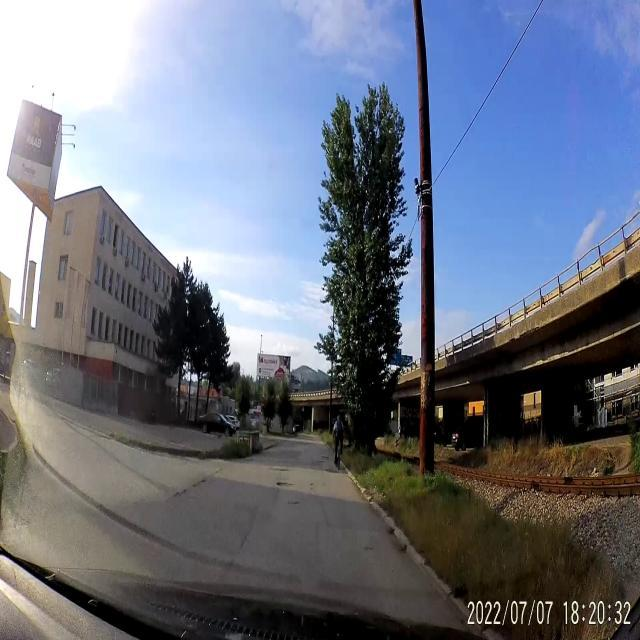Pothole: (273, 478, 292, 493), (288, 496, 302, 511), (362, 542, 376, 556), (268, 464, 290, 472), (319, 452, 331, 461), (310, 459, 324, 466)
